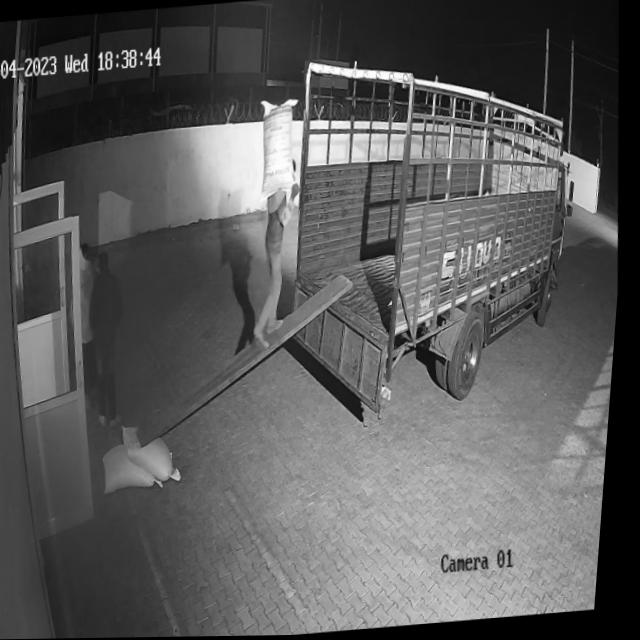sack: (256, 95, 307, 203), (124, 421, 190, 485), (106, 441, 173, 493)
